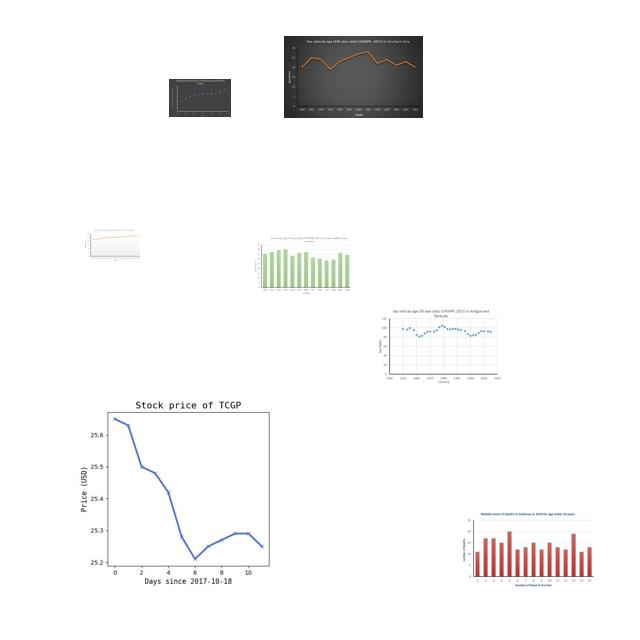Graph: (52, 388, 318, 588), (284, 36, 423, 118), (459, 510, 597, 590), (378, 307, 503, 384), (253, 236, 352, 296), (169, 79, 231, 117), (83, 228, 141, 262)
